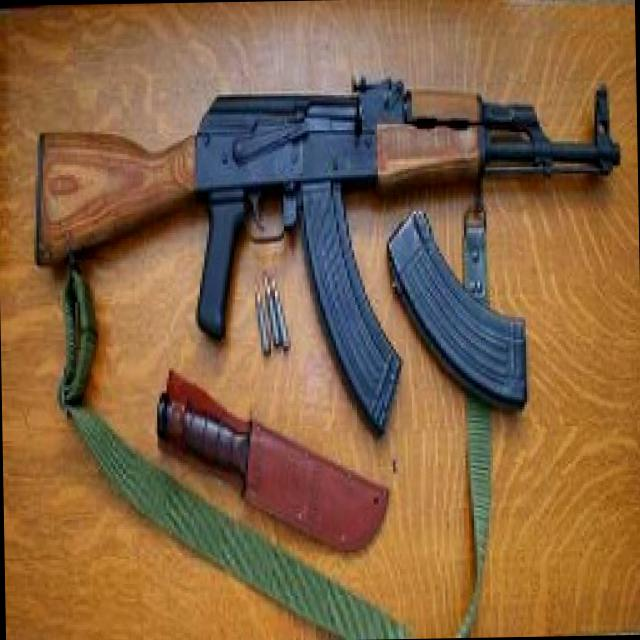long weapon: (24, 77, 630, 325)
